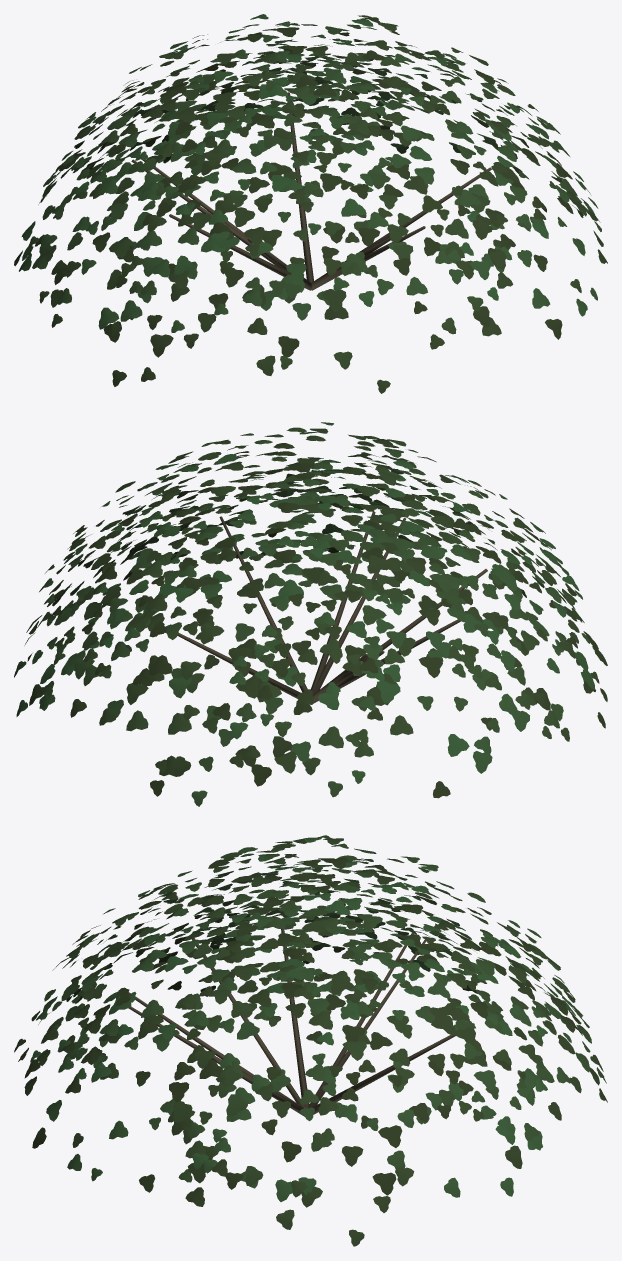
The model's file is ER_Buisson_Feuillu.gltf.
3 views of the same model, one above another, from view 1: azimuth 30°, elevation 25°; view 2: azimuth 150°, elevation 25°; view 3: azimuth 270°, elevation 25° (orthographic).
Visible parts, largest first — view 1: ER_Buisson_Feuillu_FEU2.001, ER_Buisson_Feuillu_TIG.001; view 2: ER_Buisson_Feuillu_FEU2.001, ER_Buisson_Feuillu_TIG.001; view 3: ER_Buisson_Feuillu_FEU2.001, ER_Buisson_Feuillu_TIG.001.
Part boxes in pixels (x1,y1,x2,y2): ER_Buisson_Feuillu_FEU2.001: [14, 14, 607, 393]; ER_Buisson_Feuillu_TIG.001: [131, 92, 491, 290]; ER_Buisson_Feuillu_FEU2.001: [14, 422, 607, 806]; ER_Buisson_Feuillu_TIG.001: [177, 511, 487, 703]; ER_Buisson_Feuillu_FEU2.001: [14, 835, 607, 1246]; ER_Buisson_Feuillu_TIG.001: [127, 929, 474, 1116].
Size of the model in its own units: 1.61 by 0.7478 by 1.58.
